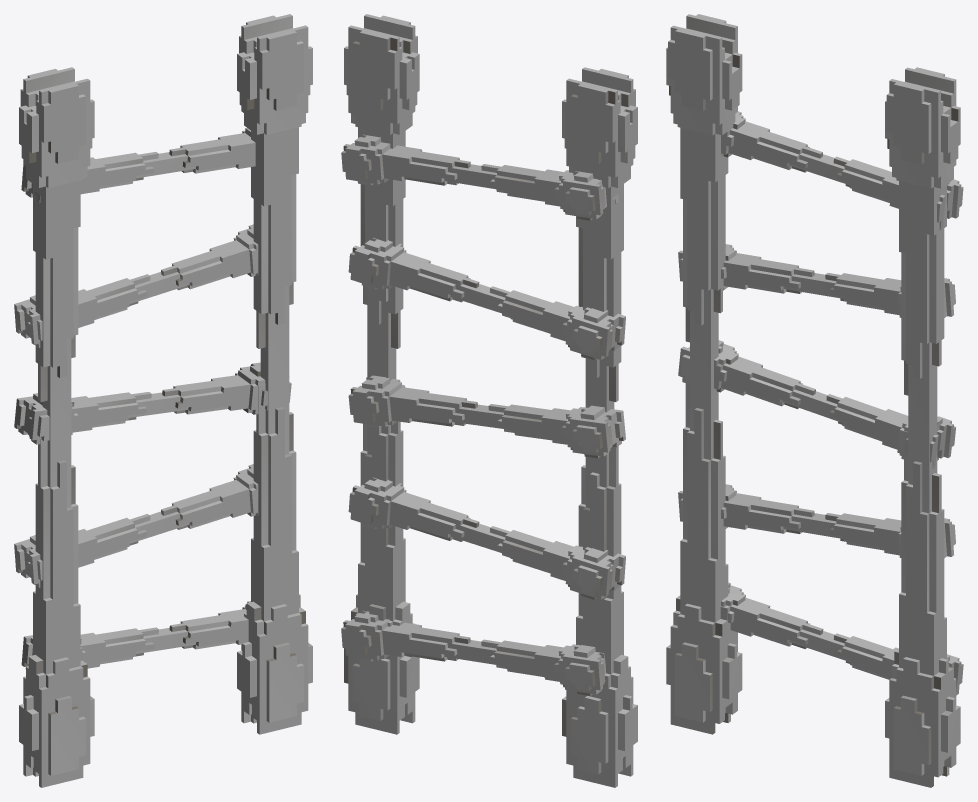
File: v_bone_ladder.fbx
3 views of the same model, side by side, from view 1: azimuth 30°, elevation 25°; view 2: azimuth 150°, elevation 25°; view 3: azimuth 330°, elevation 25° (orthographic).
Parts seen in each view (by area): view 1: v_bone; view 2: v_bone; view 3: v_bone.
Part boxes in pixels (x1,y1,x2,y2): v_bone: (14,14,312,787); v_bone: (341,14,637,787); v_bone: (666,14,963,787).
Bounding box in the file's own units: 79.49 × 188 × 15.49.
